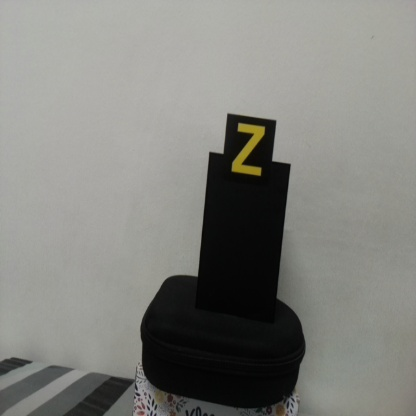id_15: (224, 117, 274, 186)
